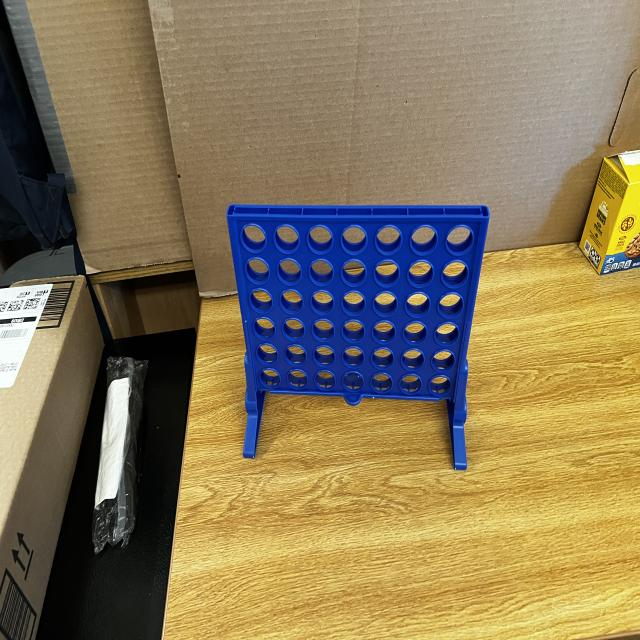Board: (227, 199, 492, 408)
